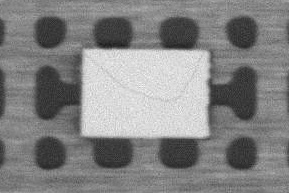DIE_CRACK: (82, 52, 203, 100)
